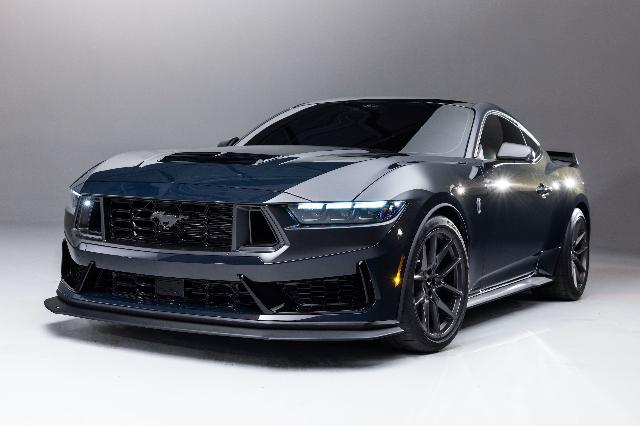ford-mustang: (44, 96, 592, 354)
